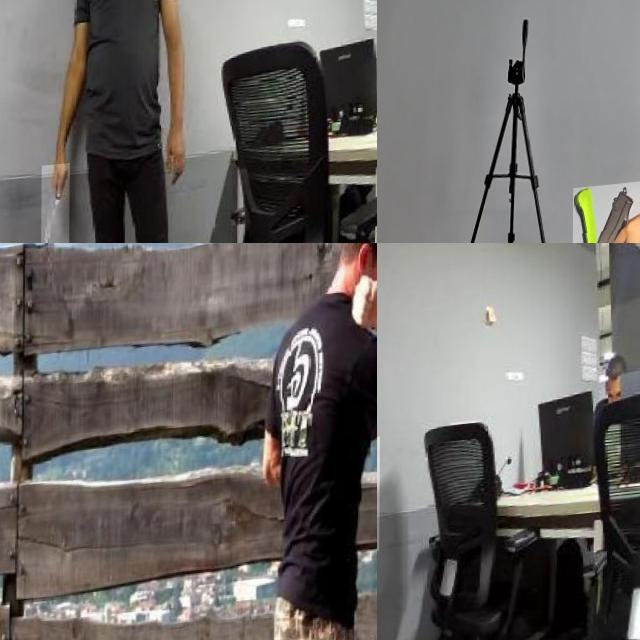-: (377, 442, 401, 561), (42, 166, 70, 243)
gun-knife-thesis - v11 Yolov5 augmented: (573, 189, 640, 243)
